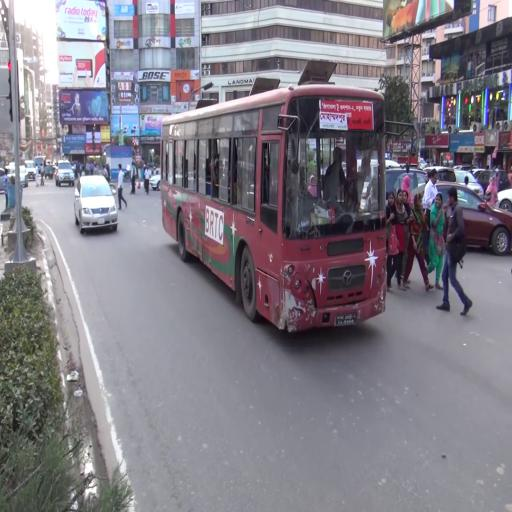bus: (159, 57, 390, 339)
car: (393, 178, 512, 250), (72, 173, 121, 236)
minivan: (26, 158, 40, 183)
suv: (56, 160, 77, 192)
